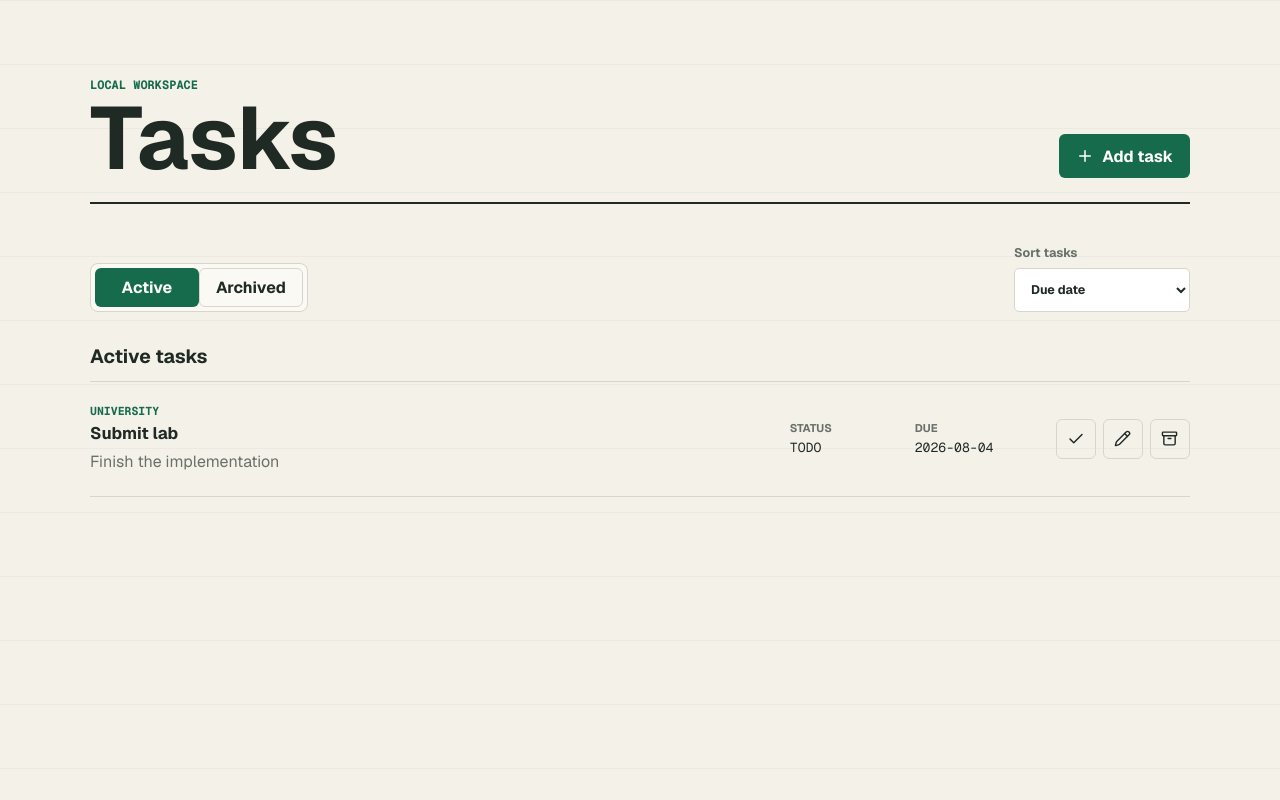
Test: AppShell › edits and archives an active task
Expected: the heading "Submit lab" is shown, [90,422,178,444]
Click the button named "Edit Submit lab" at {"x": 1123, "y": 439}, box [1103,419,1143,459]
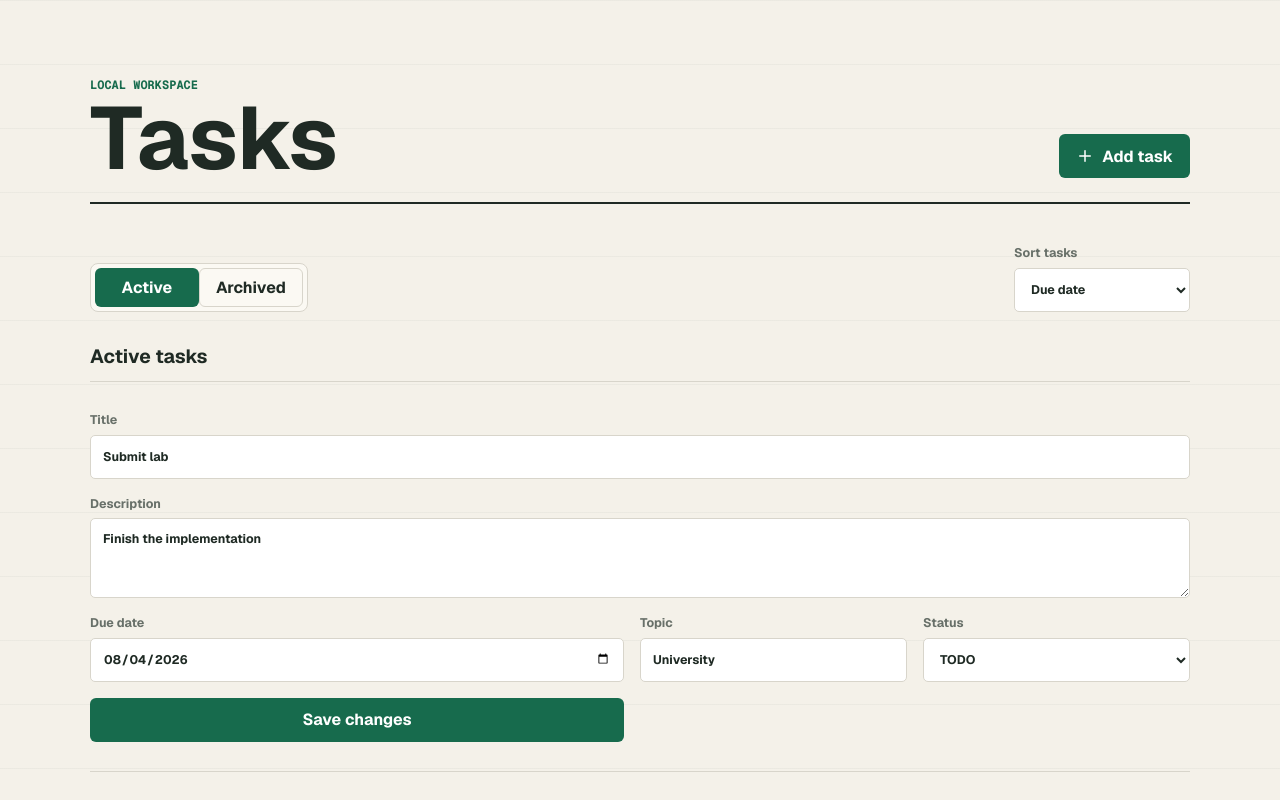
Replace the text in the field labelled "Title" with "Submit final lab" at {"x": 640, "y": 457}, box [90,435,1190,479]
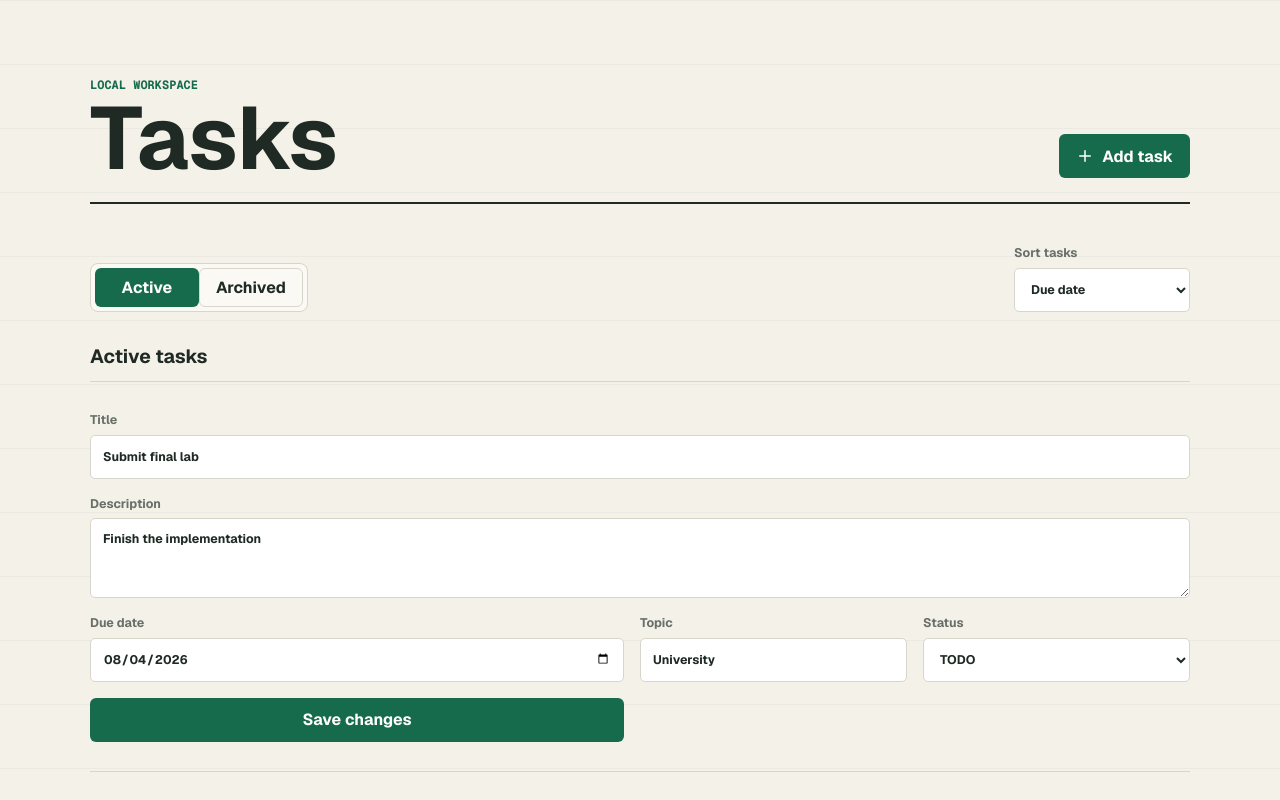
Click the button "Save changes" at {"x": 357, "y": 720}, box [90,698,624,742]
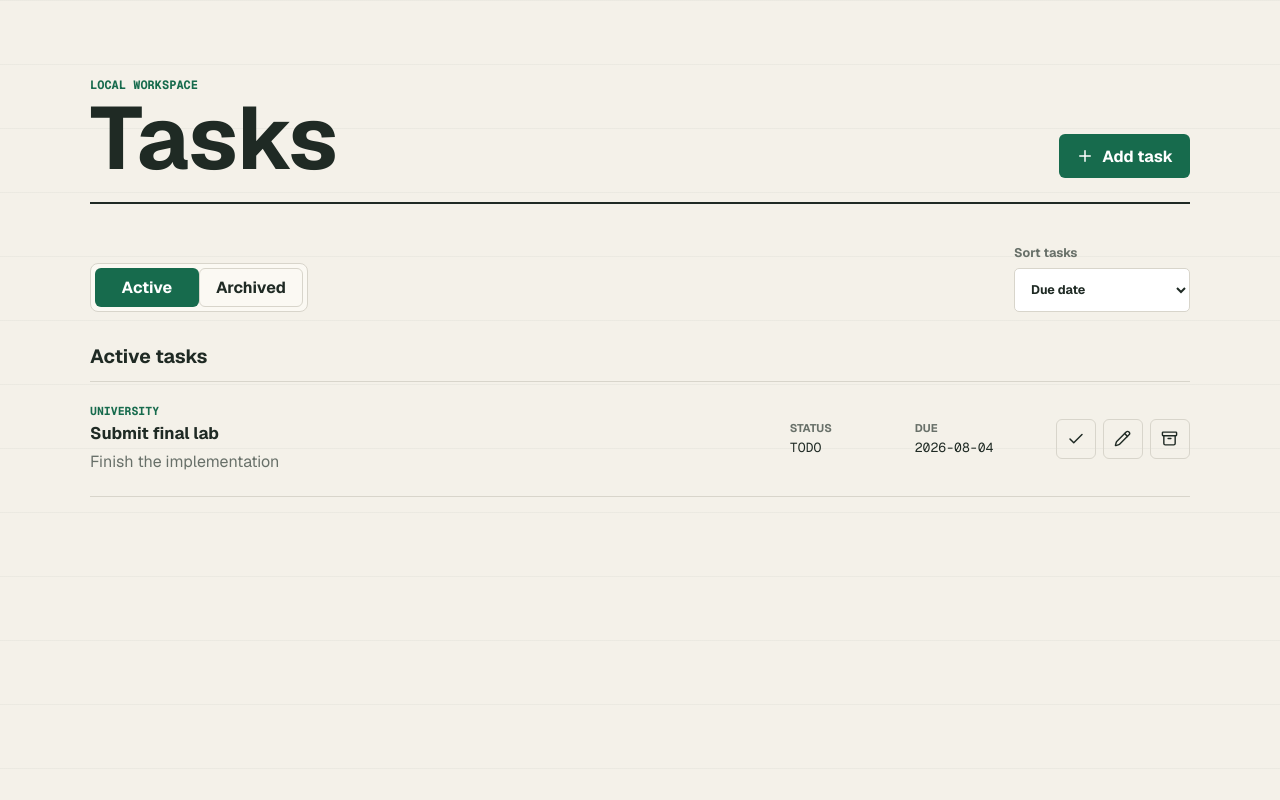
Now the heading "Submit final lab" is shown, box [90,422,219,444]
Click the button named "Archive Submit final lab" at {"x": 1170, "y": 439}, box [1150,419,1190,459]
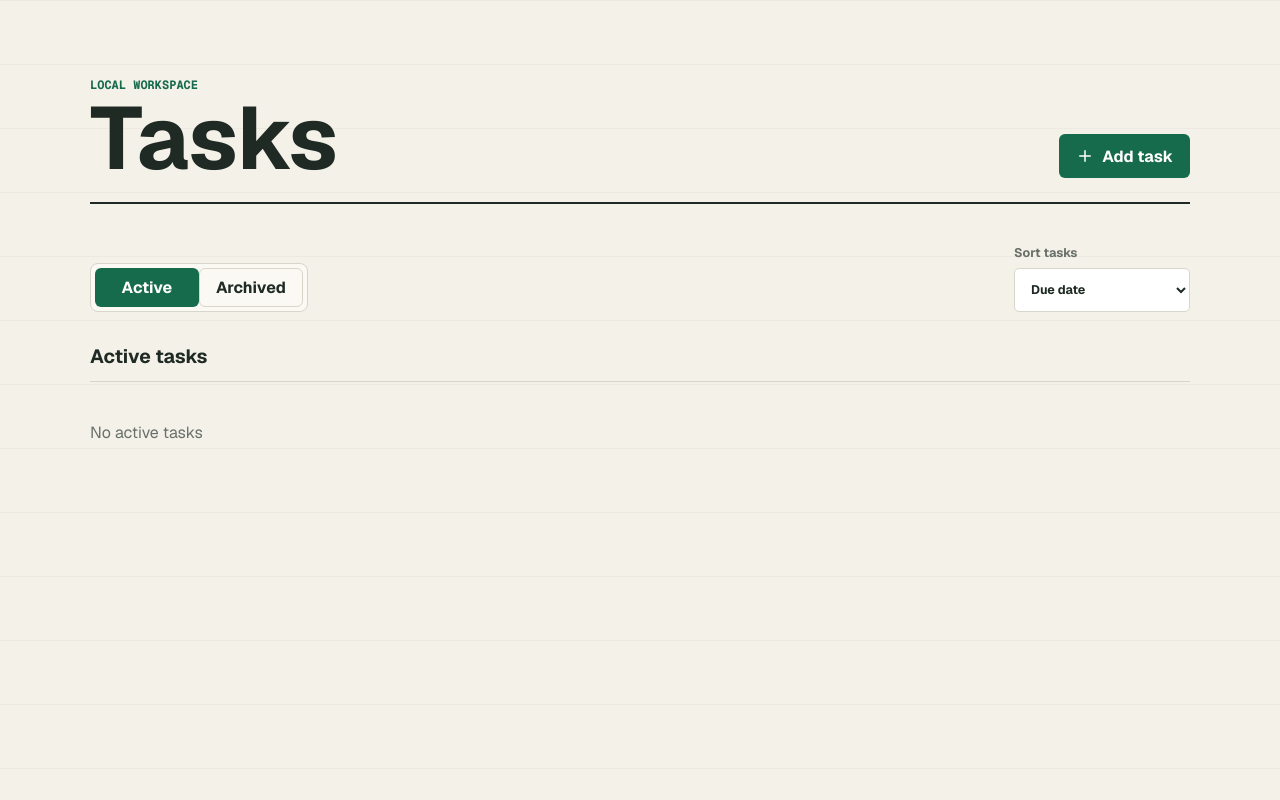
Now the text "No active tasks" is shown, box [90,422,203,443]
